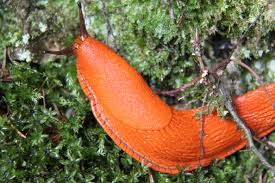slug: (48, 1, 275, 171)
